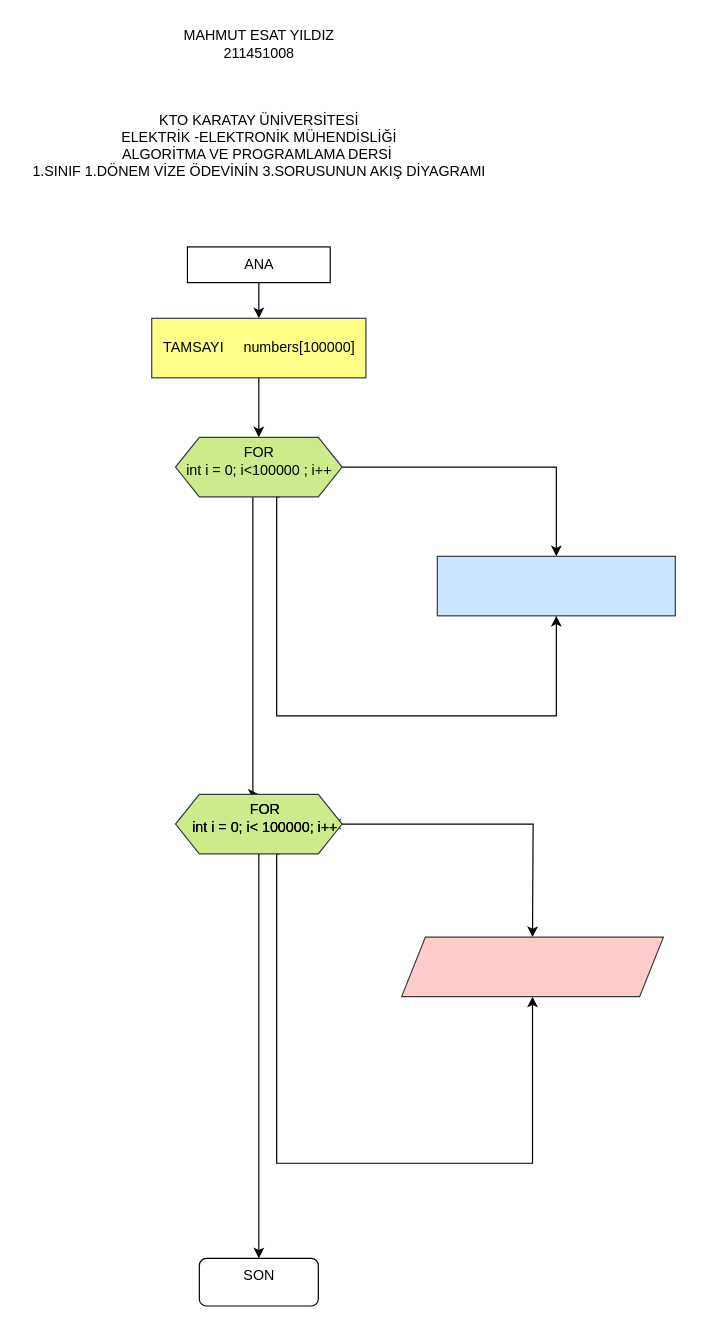
The diagram is 701 pixels wide and 1327 high, and some of its shapes have lost their labels. Each missing label, with the centre of its shape:
("%d.sayı = %d\n", i +1 , numbers[i]): (531,966)
numbers[i] = (rand() % 10000 + 1 ): (555,585)
